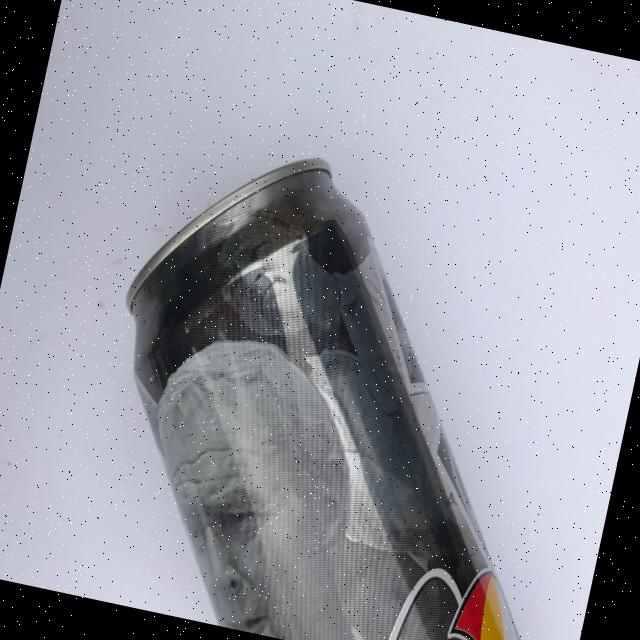metal: (63, 123, 640, 640)
